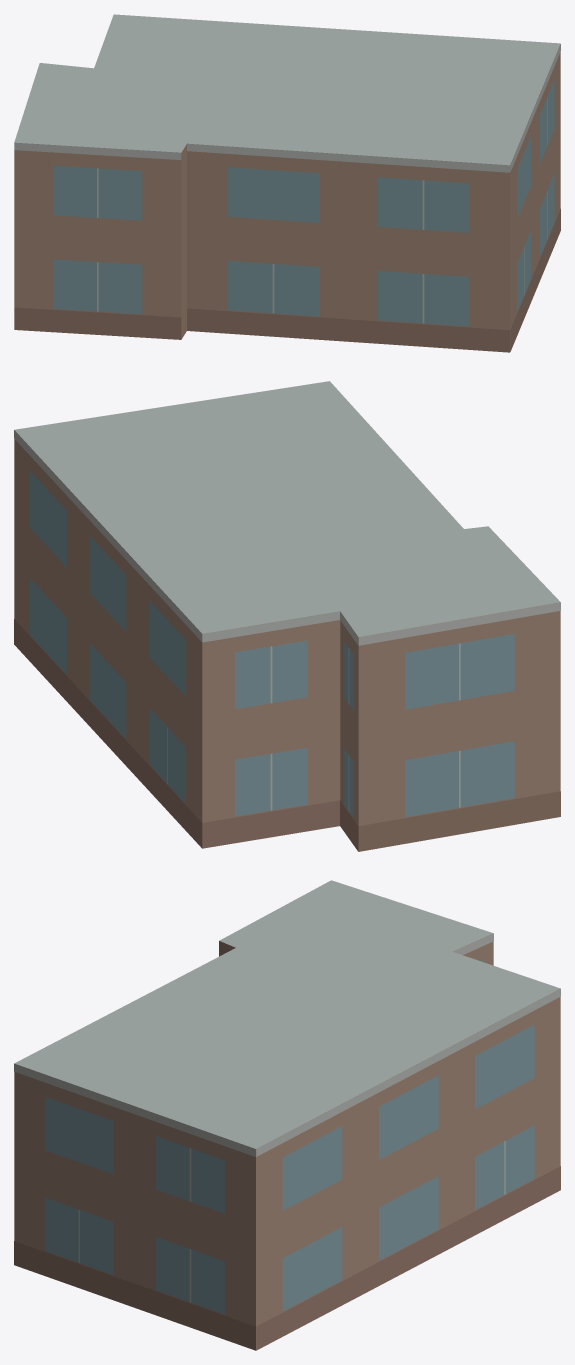
Rendered from survey-upis-32820255.glb.
3 renders of one model, top to bottom at view 1: azimuth 30°, elevation 25°; view 2: azimuth 150°, elevation 25°; view 3: azimuth 270°, elevation 25°, orthographic. The views are drawn at different scales.
Visible parts, largest first — view 1: survey-upis-32820255.tmp; view 2: survey-upis-32820255.tmp; view 3: survey-upis-32820255.tmp.
Part boxes in pixels (<box>): survey-upis-32820255.tmp: <box>14,14,560,352</box>; survey-upis-32820255.tmp: <box>14,381,560,851</box>; survey-upis-32820255.tmp: <box>14,880,560,1350</box>.
Bounding box in the file's own units: 17.46 × 6.1 × 15.
